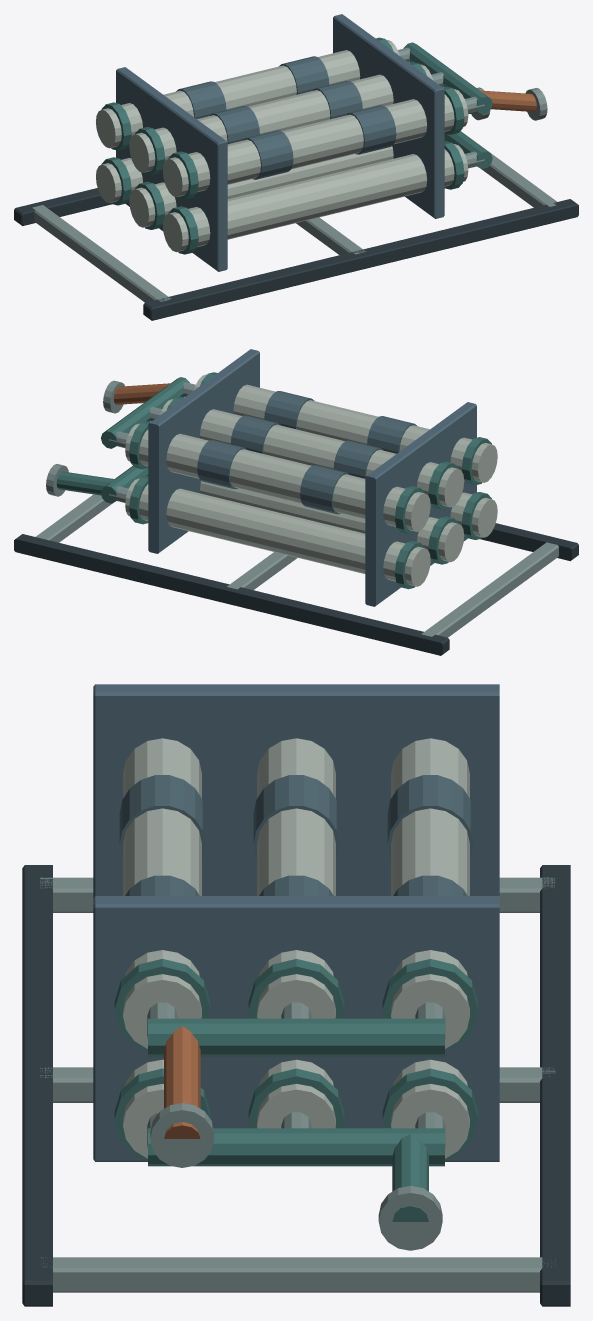
The model's file is UT-06_membrane_train.glb.
The picture shows the model from 3 angles, top to bottom: view 1: azimuth 30°, elevation 25°; view 2: azimuth 150°, elevation 25°; view 3: azimuth 270°, elevation 25°; orthographic projection. The views are drawn at different scales.
Parts seen in each view (by area): view 1: UT-06_membrane_train; view 2: UT-06_membrane_train; view 3: UT-06_membrane_train.
Part boxes in pixels (x1,y1,x2,y2): UT-06_membrane_train: (14, 14, 578, 320); UT-06_membrane_train: (14, 349, 578, 655); UT-06_membrane_train: (22, 684, 570, 1306).
Size of the model in its own units: 13.07 by 4.19 by 7.2.
